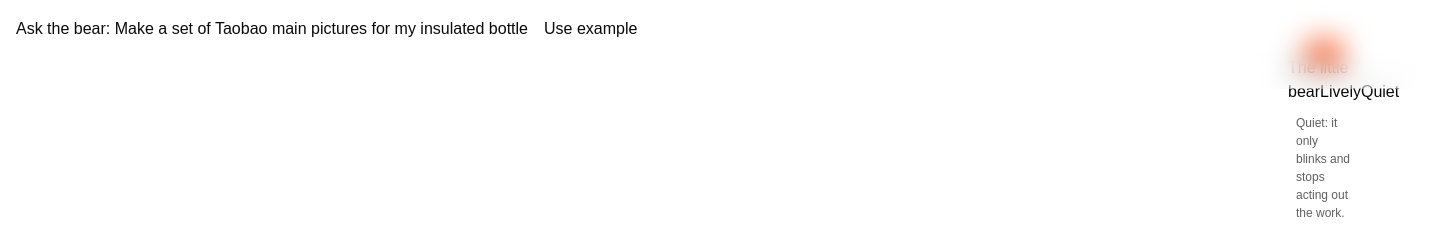
Test: 「使用示例」 on the home composer › is not offered once the box has text
The width and height of the screenshot is (1435, 234).
Type "a" into the text box named "Describe what you want to design" at (717, 42), box [16,12,1418,71]
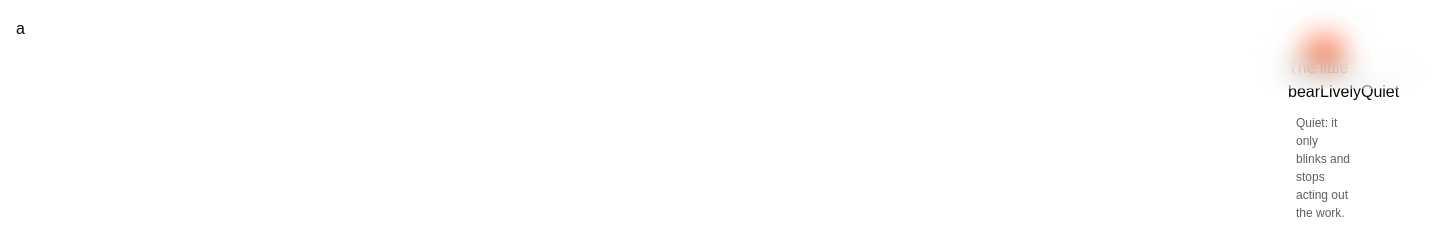
Now the button "Use example" is gone
